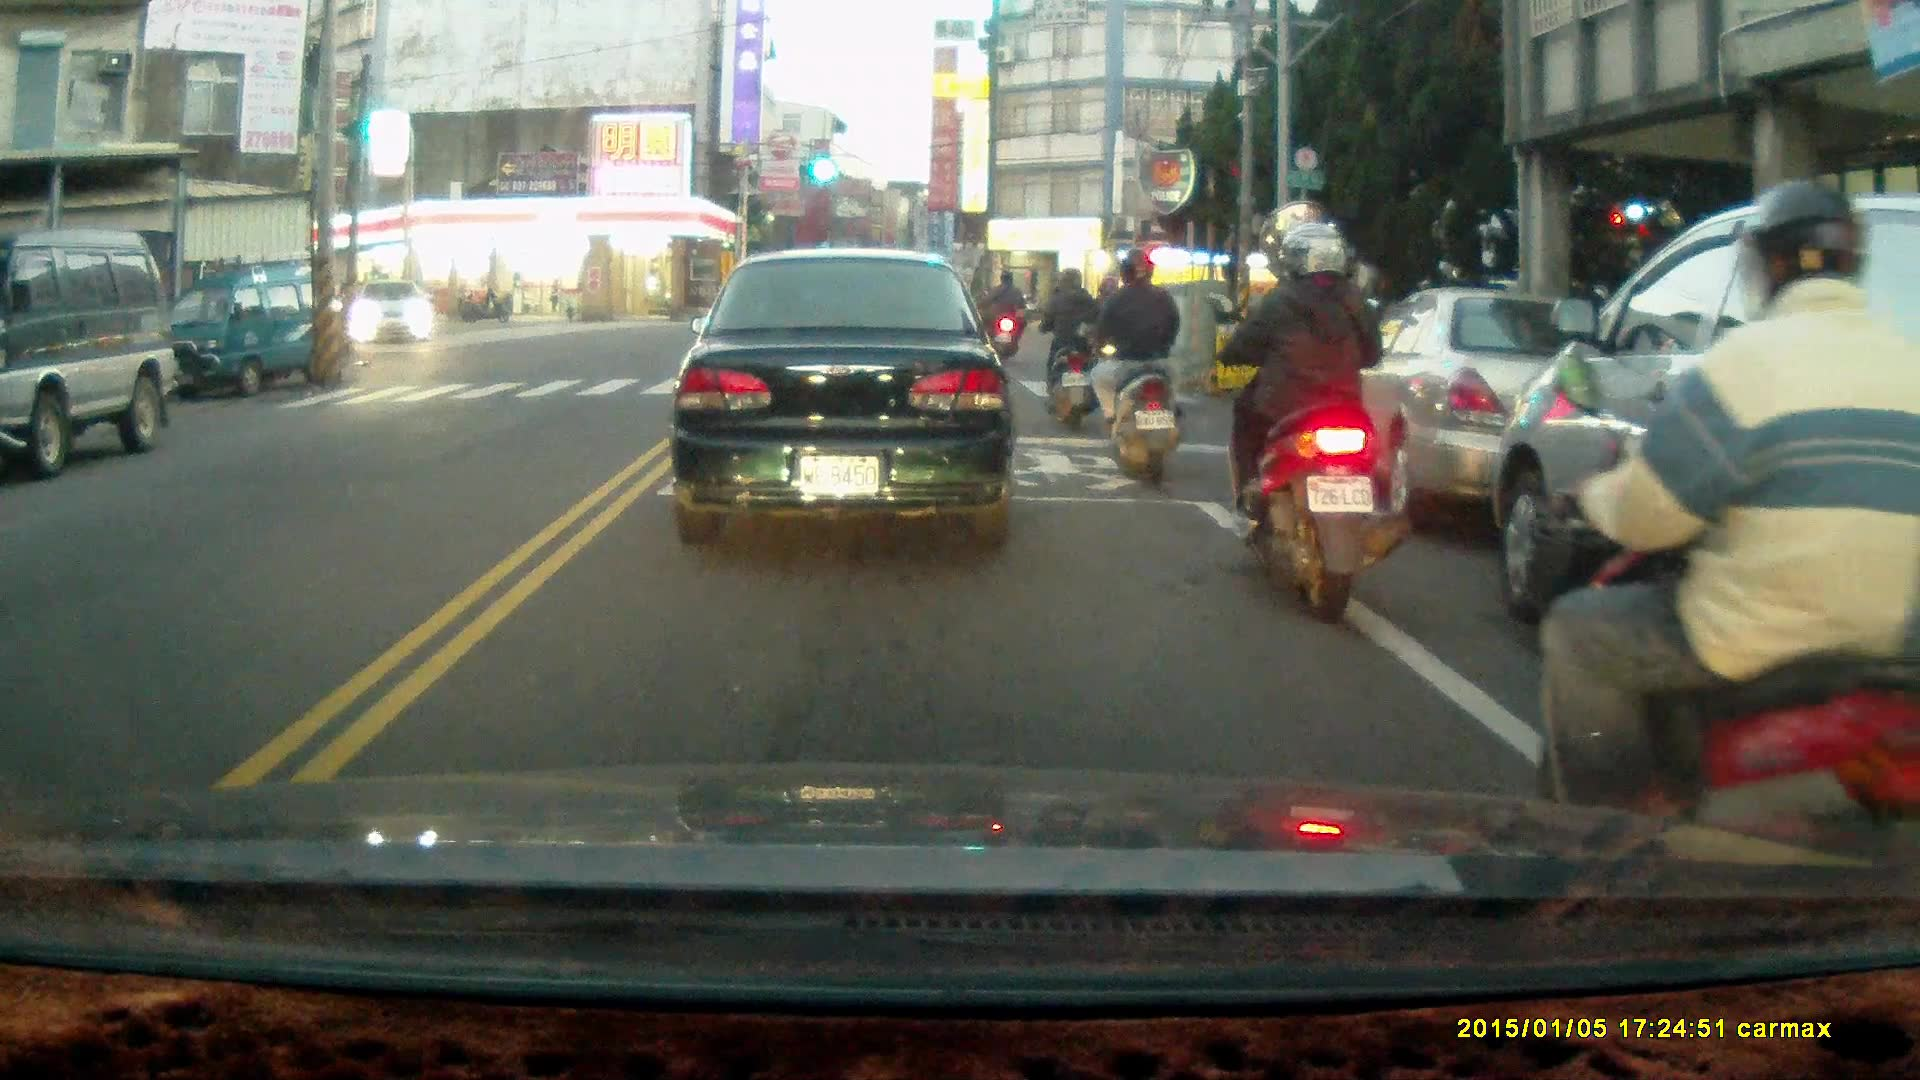rider: (1533, 175, 1920, 880), (1214, 219, 1409, 629), (1070, 249, 1180, 486), (1031, 265, 1102, 427), (986, 272, 1029, 365)
vehicle: (1497, 195, 1920, 817), (674, 249, 1020, 546), (1308, 288, 1682, 528), (1, 234, 168, 470), (151, 263, 348, 405), (353, 282, 438, 351)
